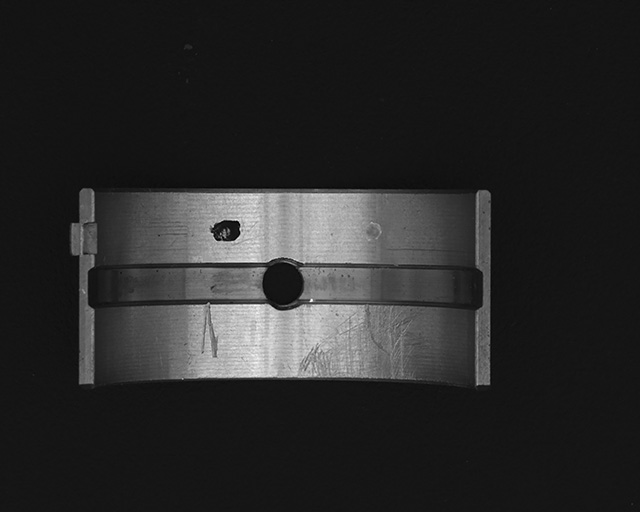blot: (208, 218, 241, 242)
bruise: (366, 222, 382, 242)
gap: (298, 263, 484, 311), (88, 264, 265, 306)
hole: (262, 257, 304, 310)
nick: (199, 301, 220, 358)
scratch: (298, 304, 419, 382)
